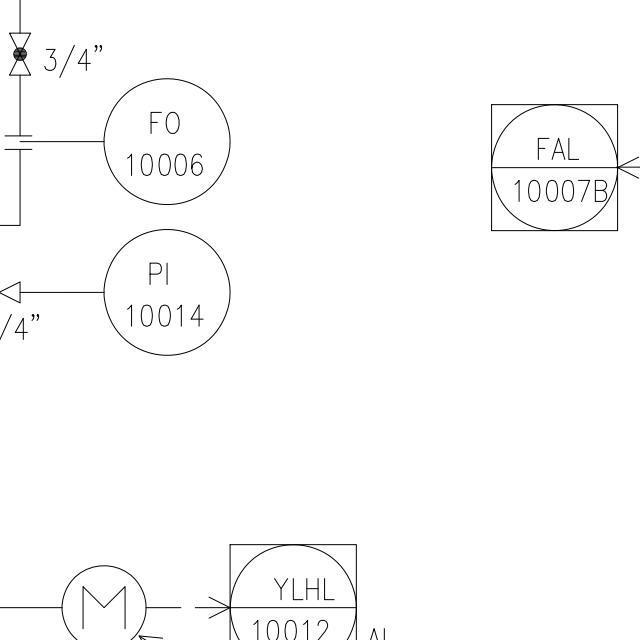BV2: (5, 25, 36, 82)
M: (55, 561, 146, 640)
